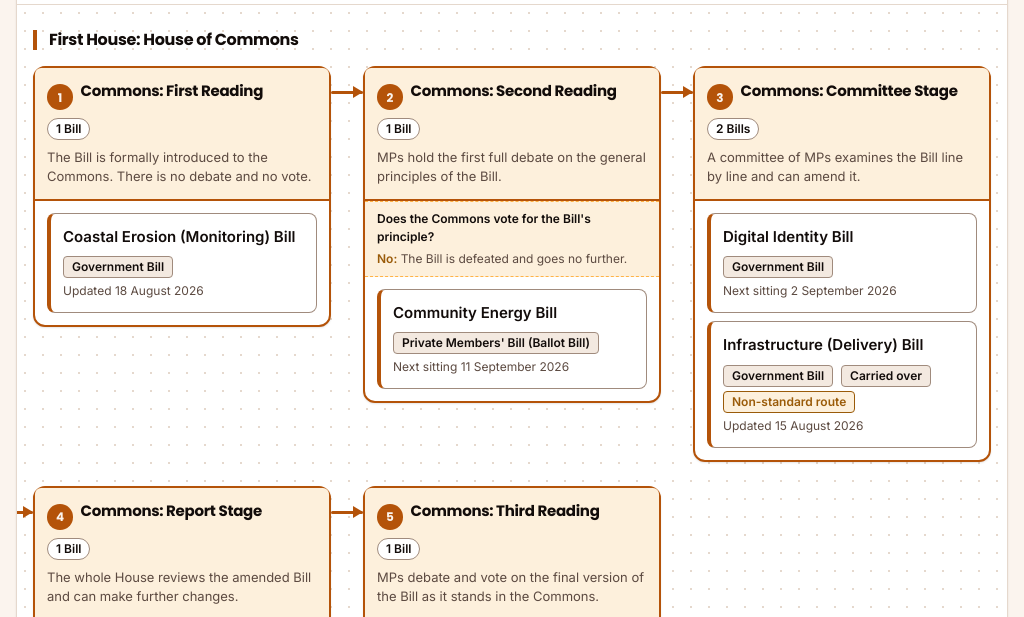
Test case: the details panel › shows the official stage wording alongside the normalised stage
(page scrolled)
Click the button "Infrastructure (Delivery) Bill" at {"x": 842, "y": 385}, box [707, 321, 977, 448]
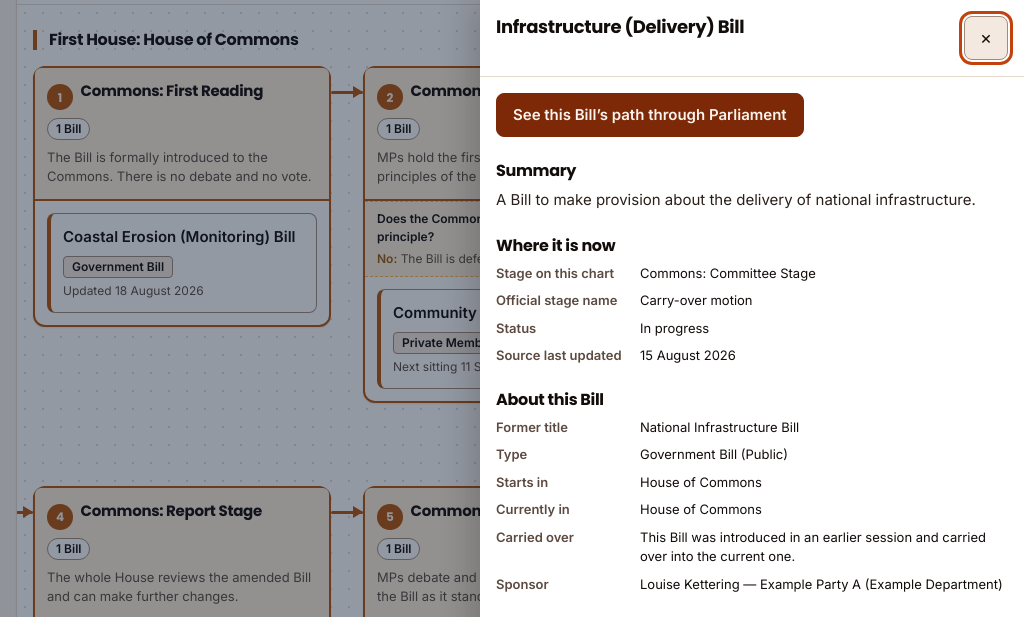
Expected: the text "Commons: Committee Stage" is shown, [640, 264, 816, 280]
Expected: the text "Carry-over motion" is shown, [640, 292, 752, 308]
